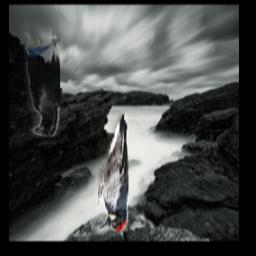Crow: (24, 39, 60, 137)
Woodpecker: (98, 113, 128, 231)
